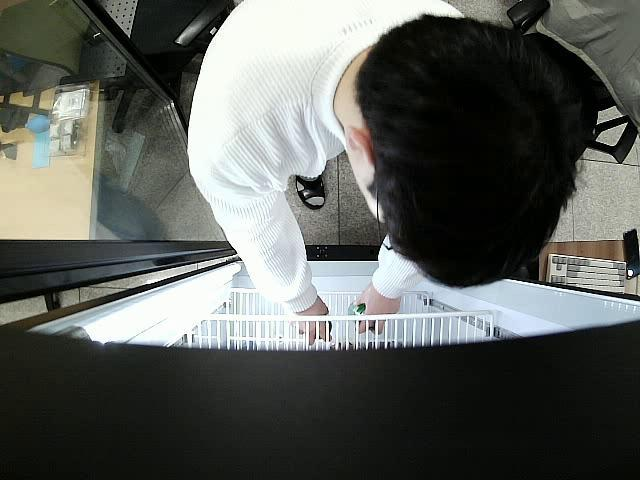12_chilsungCider: (347, 300, 377, 334)
